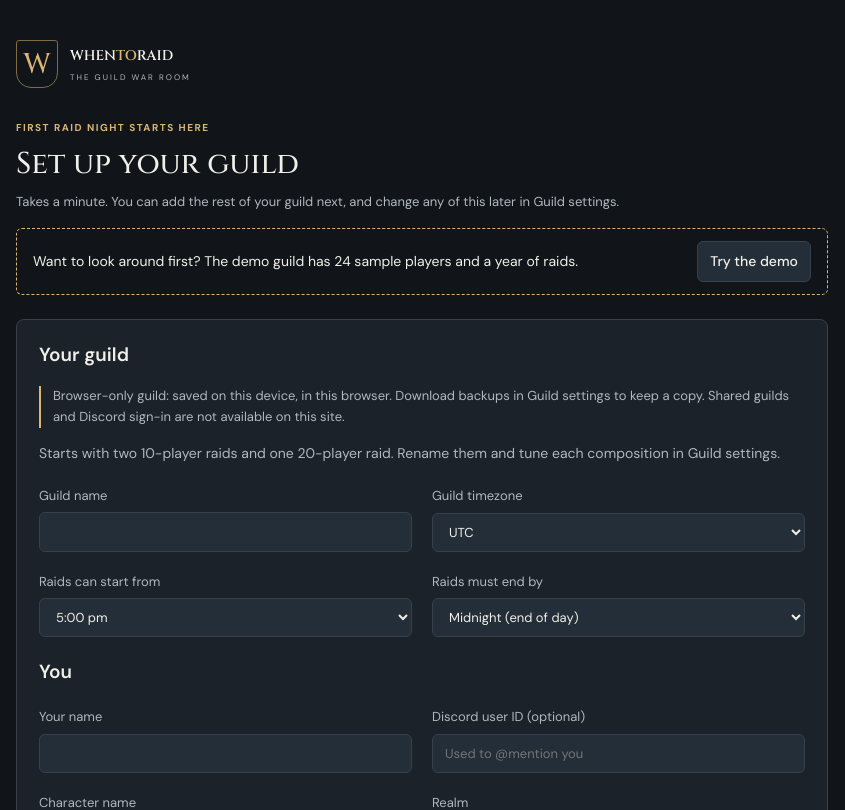
first-run setup › problems are shown on the form
The image size is (845, 810).
Type "Night Shift" into the field labelled "Guild name" at (226, 532), box [39,512,412,552]
Type "Sam" into the field labelled "Your name" at (226, 753), box [39,734,412,773]
(page scrolled)
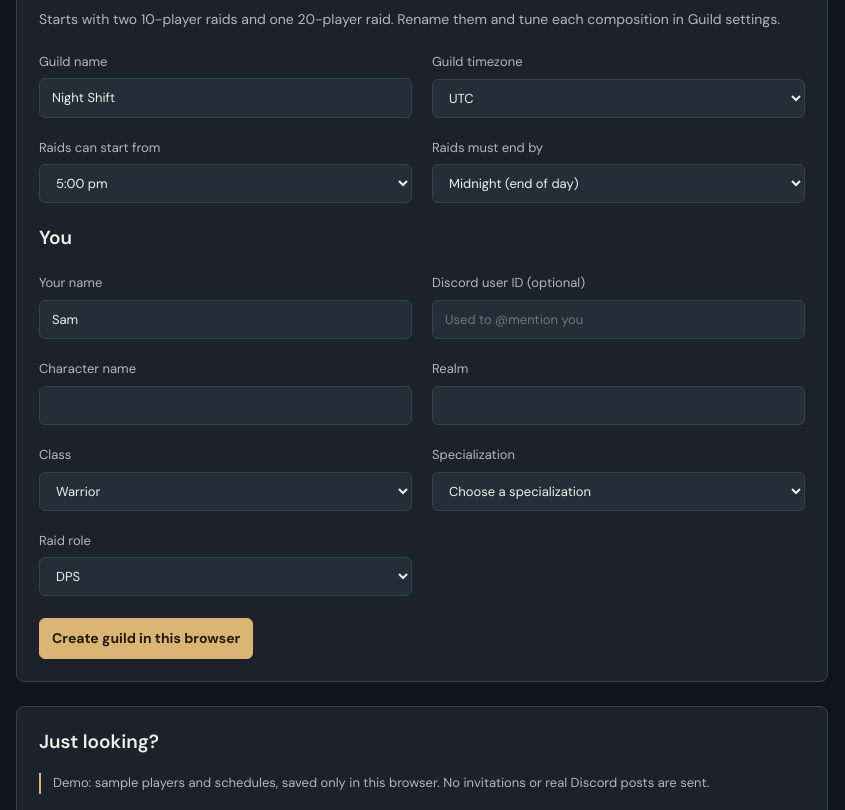
Type "Firstlight" into the field labelled "Character name" at (226, 405), box [39,386,412,425]
Type "Whitemane" into the field labelled "Realm" at (618, 405), box [432,386,805,425]
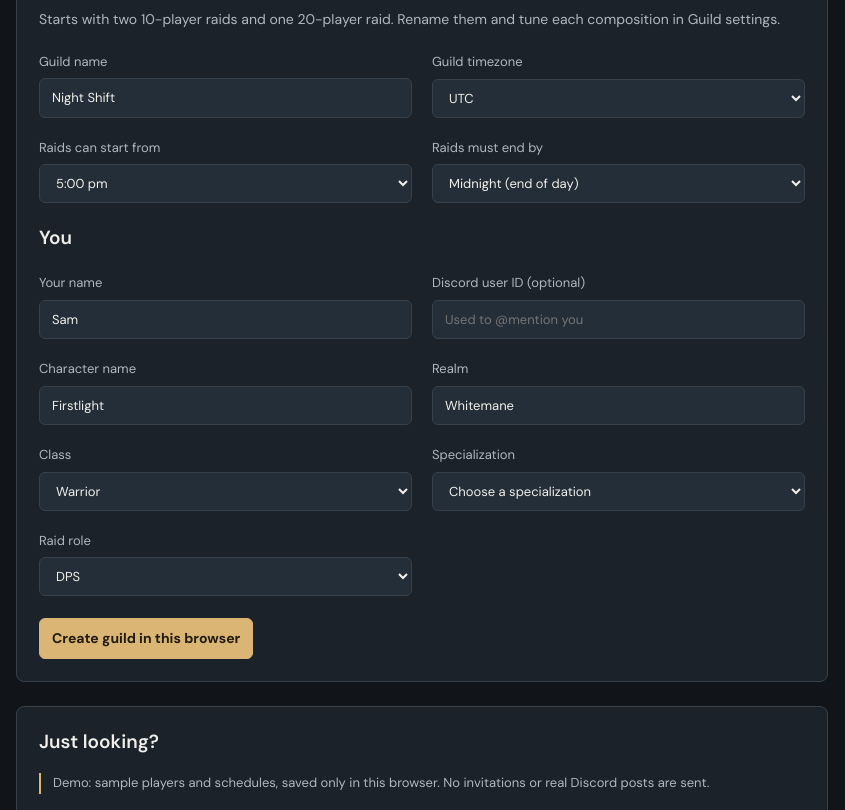
Select "Priest" in the dropdown labelled "Class" at (226, 491), box [39,472,412,511]
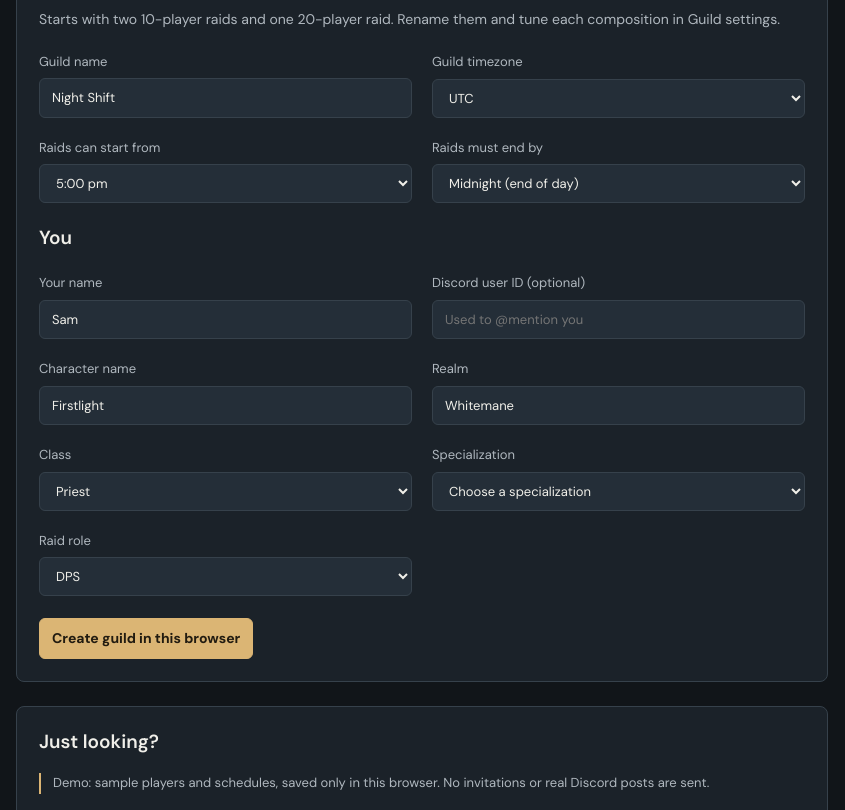
Select "Holy" in the dropdown labelled "Specialization" at (618, 491), box [432,472,805,511]
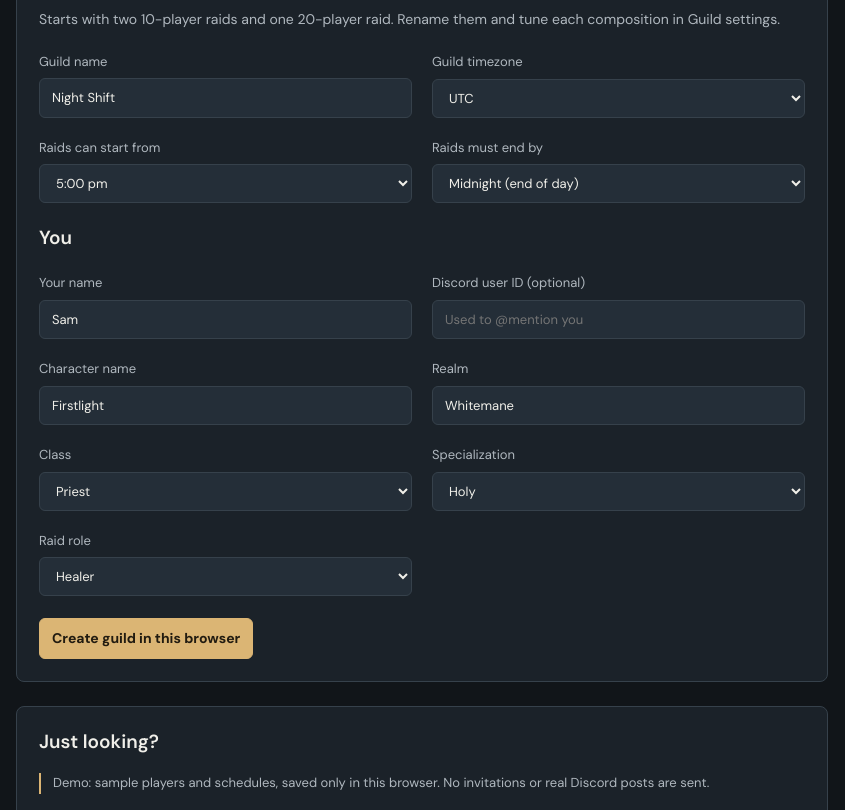
Type "12" into the field labelled "Discord user ID (optional)" at (618, 319), box [432,300,805,339]
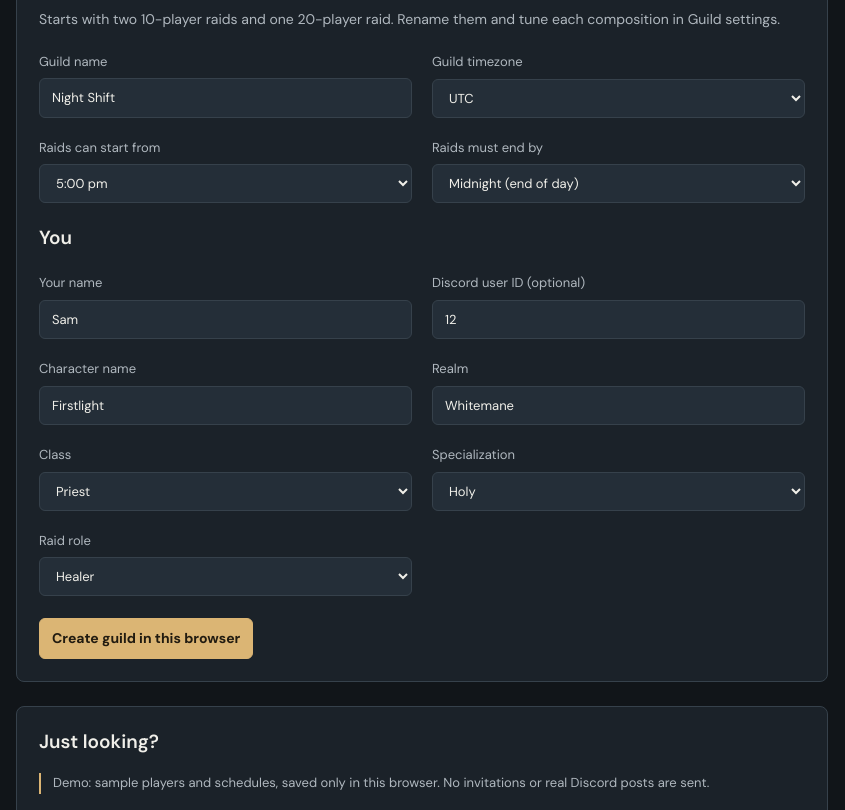
Click the button "Create guild in this browser" at (146, 639), box [39,618,253,659]
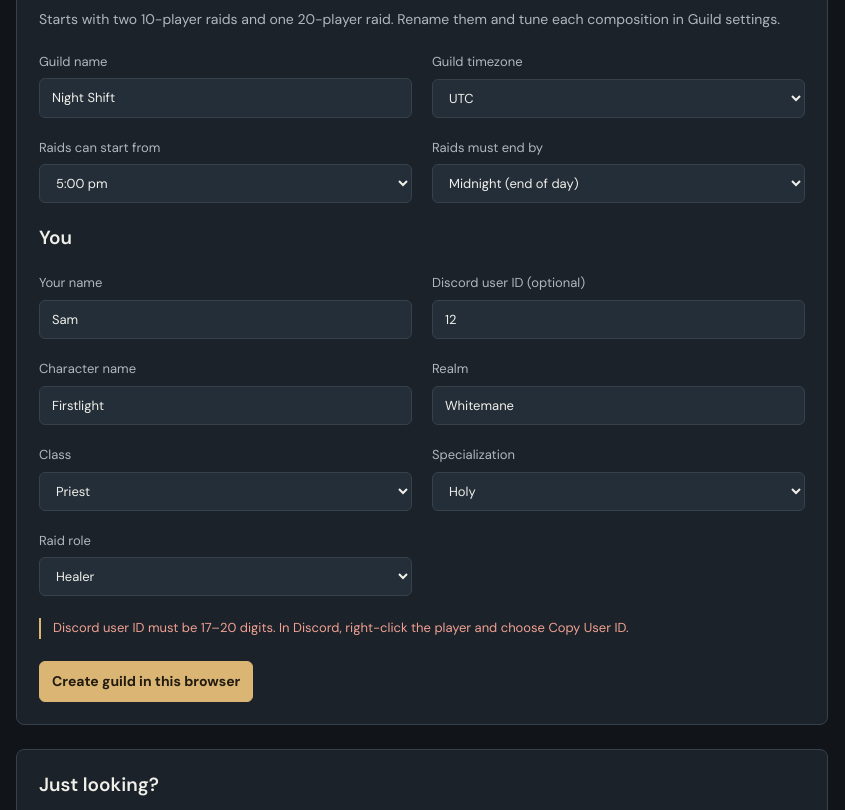
Expected: the message shows "17–20 digits", [53,619,629,636]
